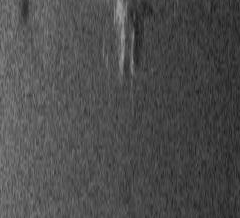man: (107, 1, 141, 80)
